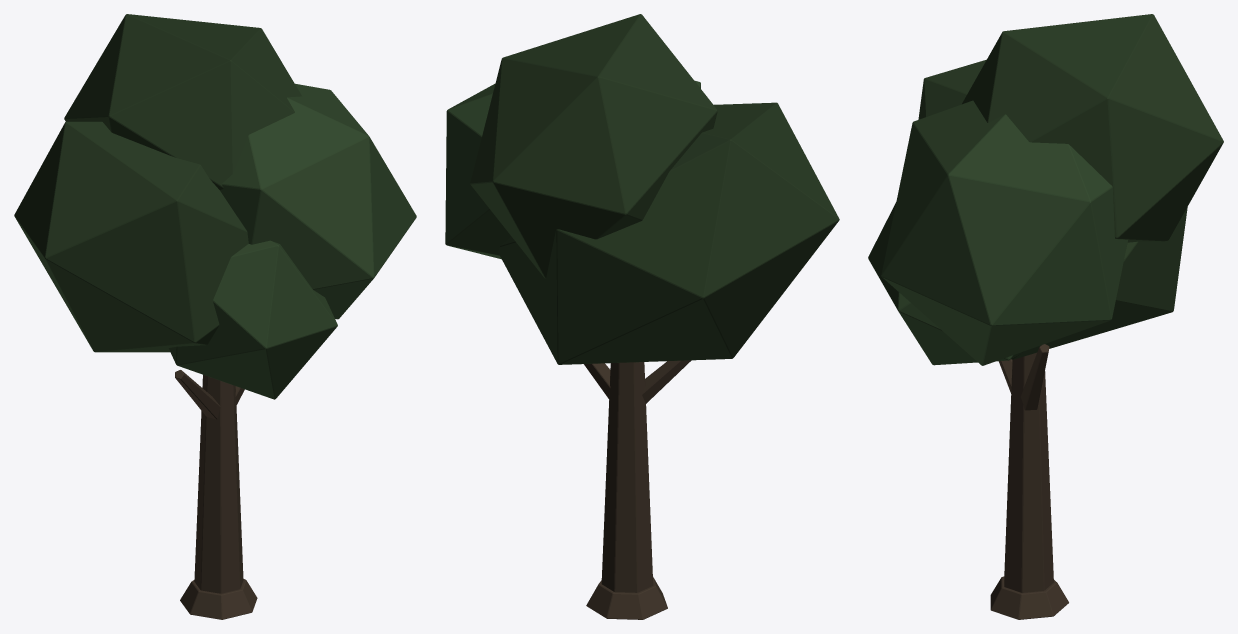
File: V_Arbre_Feuillu.glb
3 renders of one model, left to right at view 1: azimuth 30°, elevation 25°; view 2: azimuth 150°, elevation 25°; view 3: azimuth 270°, elevation 25°, orthographic. The views are drawn at different scales.
Visible parts, largest first — view 1: V_Arbre_Feuillu; view 2: V_Arbre_Feuillu; view 3: V_Arbre_Feuillu.
Part boxes in pixels (x1=…): V_Arbre_Feuillu: x1=14, y1=14, x2=416, y2=619; V_Arbre_Feuillu: x1=445, y1=14, x2=839, y2=619; V_Arbre_Feuillu: x1=868, y1=14, x2=1223, y2=619.
Size of the model in its own units: 4.2 by 6.04 by 3.4.
